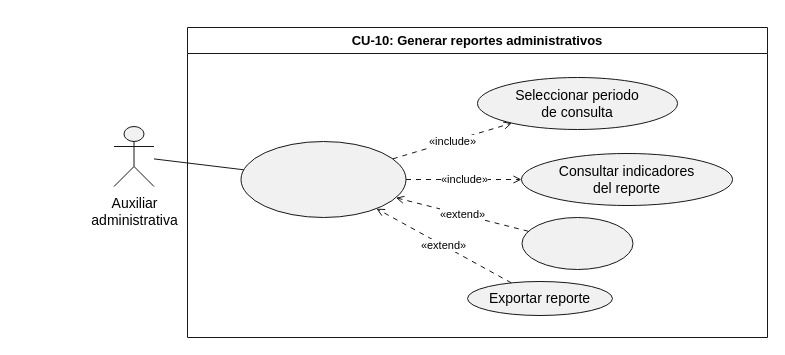
This 785x355 diagram has some shape labels left out. The shapes that lost their labels are listed below. From the top down, each one's centre as x and y in pixels, then its label:
At point (323, 179): "CU-10 Generar reportes administrativos".
At point (577, 243): "Filtrar por profesional".
